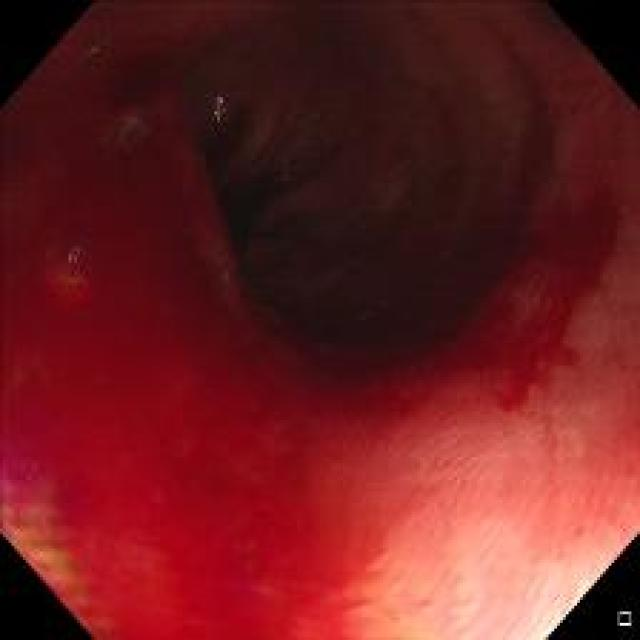bubbles: (51, 240, 92, 295)
color misalignment: (5, 462, 76, 594), (38, 40, 111, 61), (64, 242, 85, 286), (211, 96, 228, 125)
contrast: (198, 22, 534, 375)
saturation: (439, 522, 622, 631)
